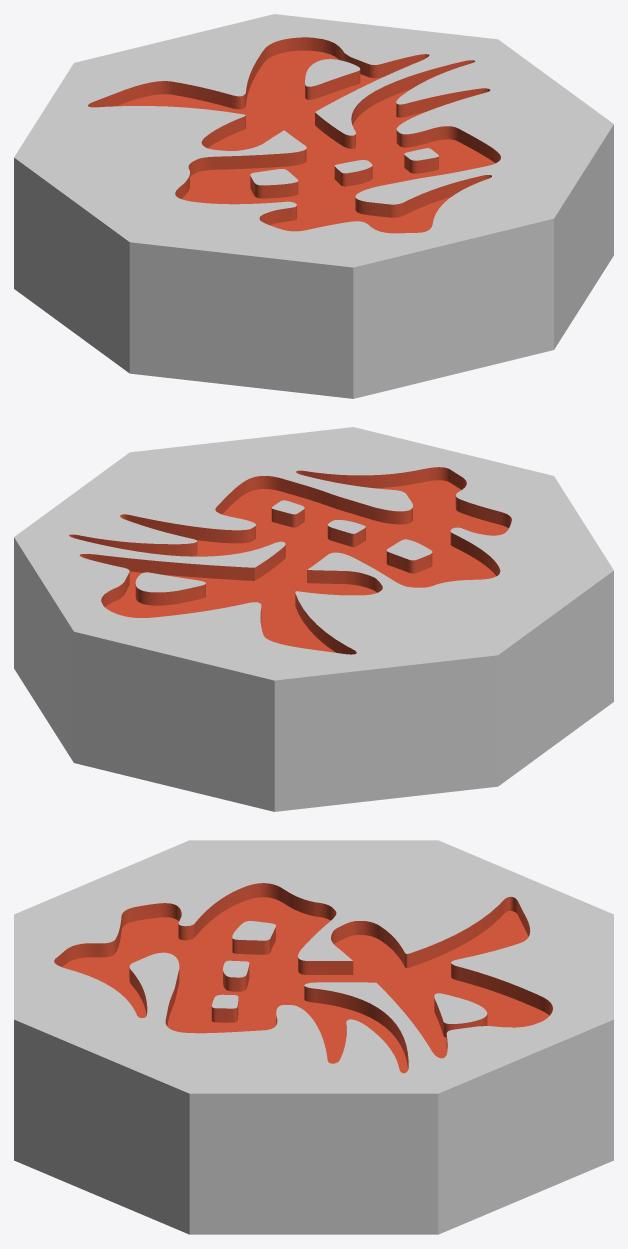
3 views of the same model, one above another, from view 1: azimuth 30°, elevation 25°; view 2: azimuth 150°, elevation 25°; view 3: azimuth 270°, elevation 25° (orthographic). The views are drawn at different scales.
Parts seen in each view (by area): view 1: 한_상; view 2: 한_상; view 3: 한_상.
Part boxes in pixels (<box>): 한_상: <box>14,14,613,398</box>; 한_상: <box>14,427,613,811</box>; 한_상: <box>14,840,613,1234</box>.
Size of the model in its own units: 2700 by 700 by 2700.
